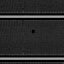dust: (31, 28, 36, 34)
